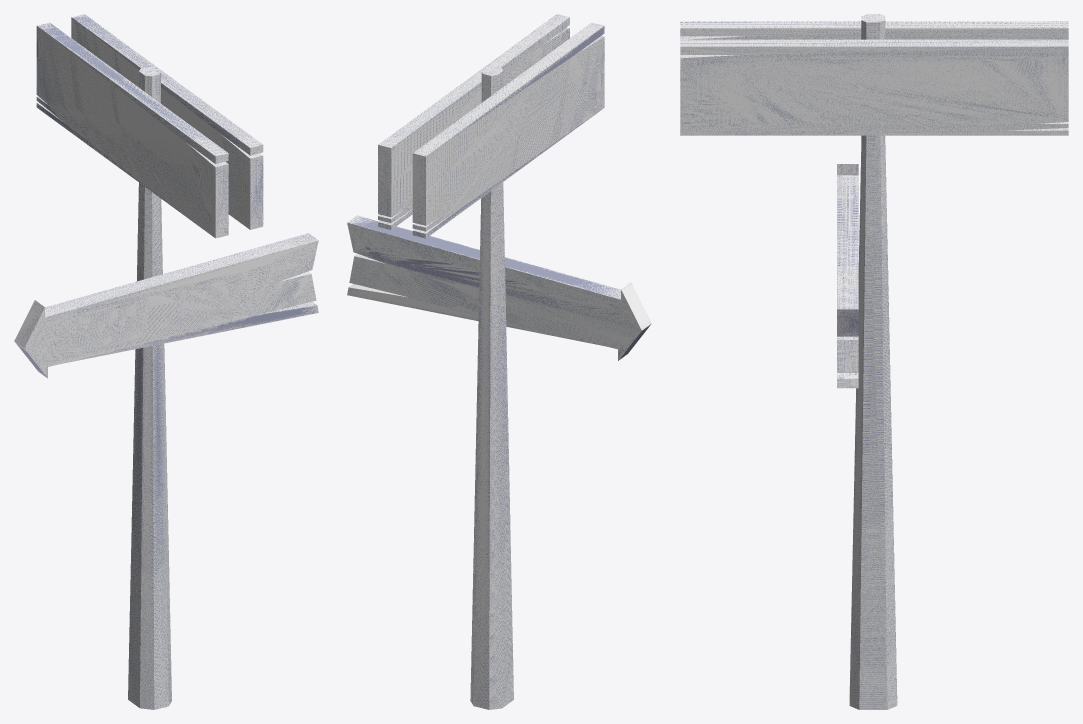
File: PlacasDirecao.fbx
3 views of the same model, side by side, from view 1: azimuth 30°, elevation 25°; view 2: azimuth 150°, elevation 25°; view 3: azimuth 270°, elevation 25° (orthographic). The views are drawn at different scales.
Visible parts, largest first — view 1: Flecha1, Componente_1_1, Madero1, Componente_1_2; view 2: Flecha1, Componente_1_1, Madero1, Componente_1_2; view 3: Componente_1_2, Madero1, Componente_1_1, Flecha1.
Boxes of the visible parts, x1,y1,x2,y2 form: Flecha1: [14, 233, 318, 378]; Componente_1_1: [36, 22, 228, 238]; Madero1: [128, 66, 171, 709]; Componente_1_2: [71, 14, 263, 229]; Flecha1: [347, 215, 651, 360]; Componente_1_1: [412, 22, 604, 238]; Madero1: [470, 66, 513, 709]; Componente_1_2: [378, 14, 569, 229]; Componente_1_2: [680, 39, 1068, 135]; Madero1: [849, 14, 897, 709]; Componente_1_1: [680, 21, 1068, 39]; Flecha1: [837, 164, 858, 388].
Size of the model in its own units: 1.78 by 3.64 by 1.88.
